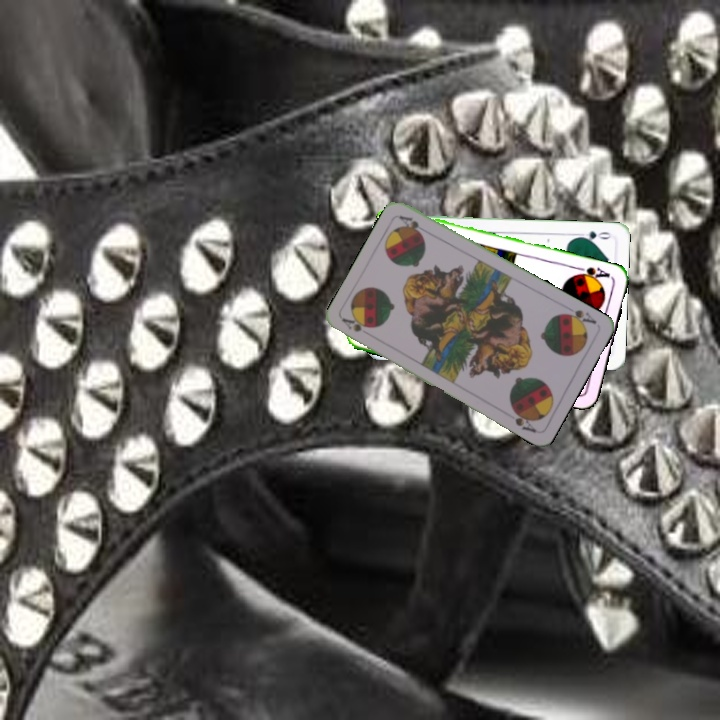GO: (573, 227, 614, 244)
SA: (559, 306, 599, 330), (571, 263, 613, 284), (339, 314, 369, 335)
